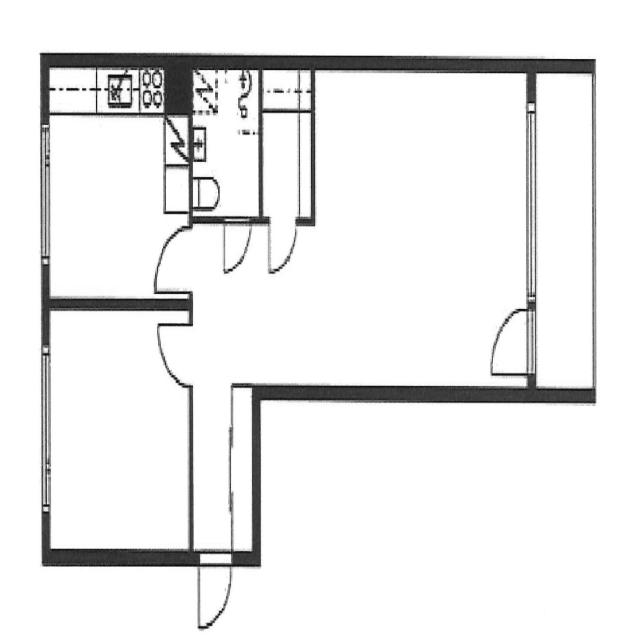door: (484, 295, 540, 379), (194, 548, 235, 632), (152, 219, 192, 298), (156, 311, 192, 390), (221, 215, 252, 279), (267, 216, 297, 278)
window: (520, 94, 542, 311), (35, 335, 55, 524), (35, 113, 56, 273)
zone: (310, 62, 533, 381), (42, 301, 192, 561), (42, 92, 190, 302), (191, 62, 259, 216), (260, 91, 314, 220)
